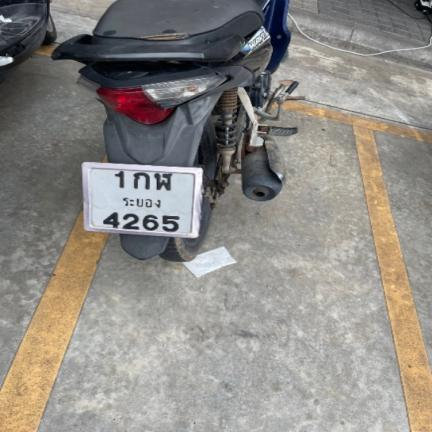1: (112, 169, 127, 189)
2: (123, 212, 141, 231)
4: (101, 211, 121, 229)
5: (161, 213, 182, 233)
6: (142, 213, 160, 231)
A01: (130, 170, 152, 190)
A42: (153, 172, 175, 192)
RYG: (117, 194, 162, 208)
